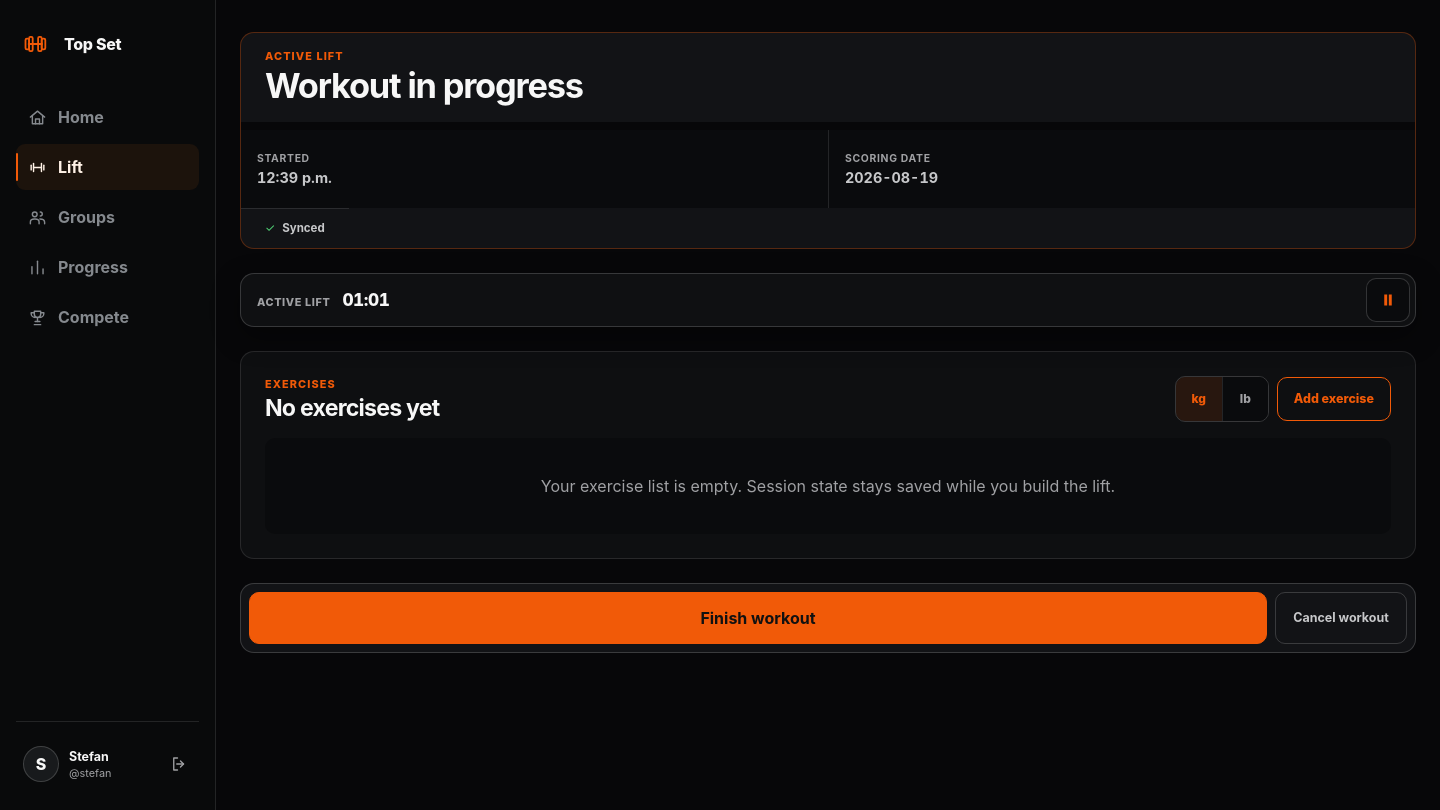
workout session presentation › opens the real exercise picker from the active workout
The width and height of the screenshot is (1440, 810).
Click the button "Add exercise" at (1334, 398), box x1=1277 y1=376 x2=1391 y2=420
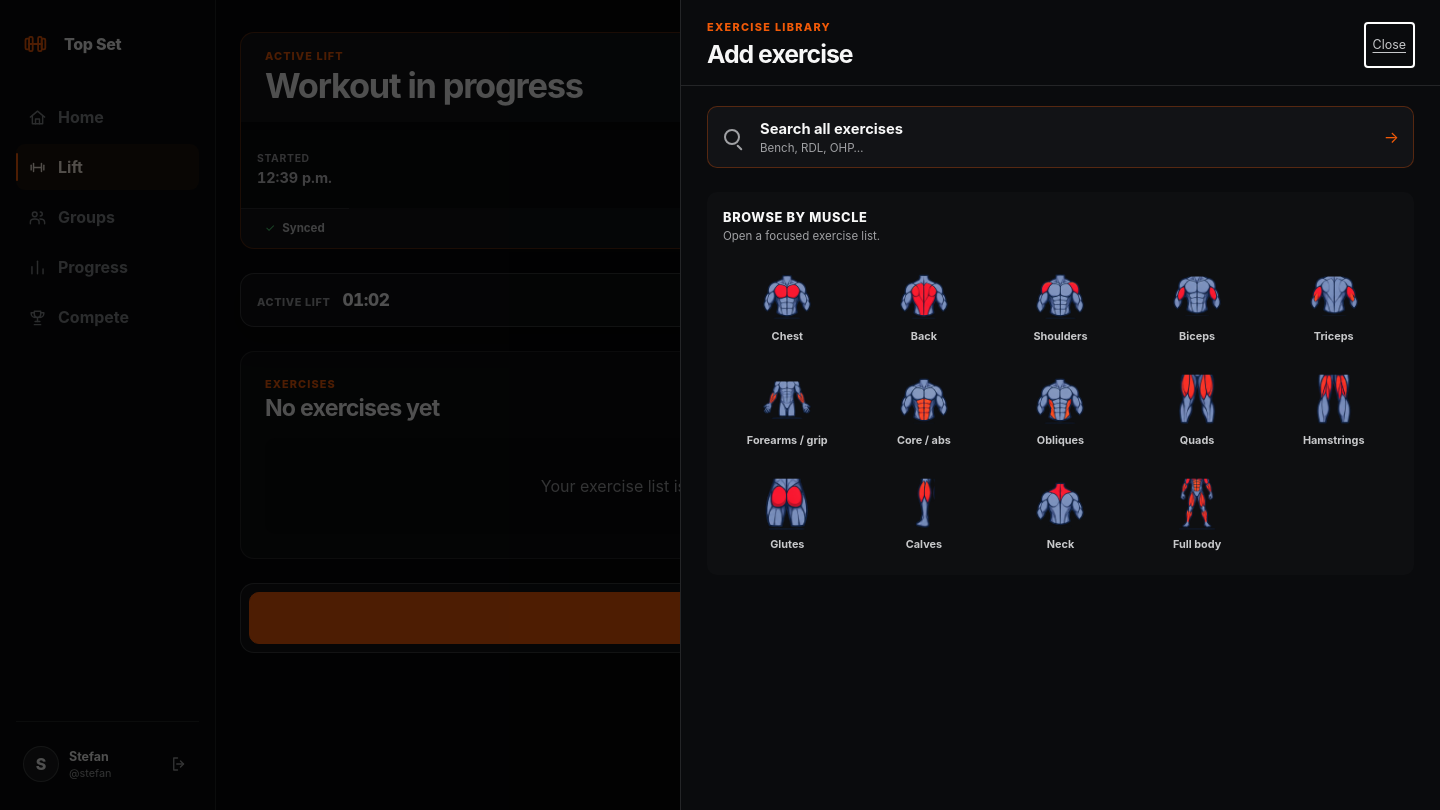
Result: the dialog "Add exercise" is shown at x1=680 y1=0 x2=1439 y2=809
Result: the button "Search all exercises Bench, RDL, OHP… →" is shown at x1=707 y1=106 x2=1414 y2=168
